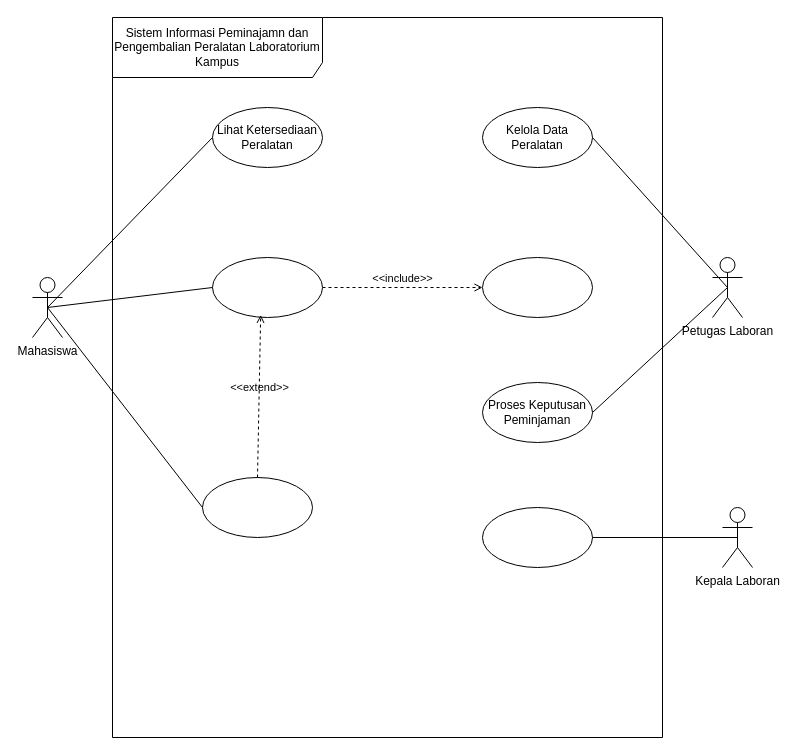
The diagram is 797 pixels wide and 755 high, and some of its shapes have lost their labels. Here are the shapes that lost their labels. From the top down, the centre of each, then its label:
At point 267,287: "Ajukan Peminjaman".
At point 537,287: "Periksa Ketersediaan".
At point 257,507: "Cetak Bukti Pengajuan".
At point 537,537: "Lihat Laporan Peminjaman".
